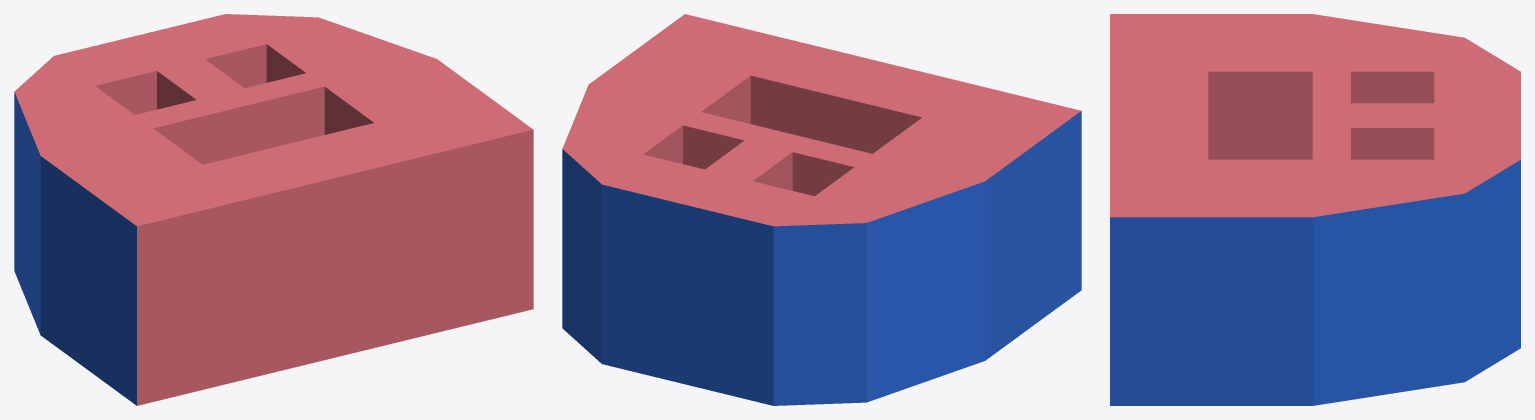
Rendered from badguy2p93.fbx.
3 views of the same model, side by side, from view 1: azimuth 30°, elevation 25°; view 2: azimuth 150°, elevation 25°; view 3: azimuth 270°, elevation 25° (orthographic). The views are drawn at different scales.
Parts seen in each view (by area): view 1: Cube; view 2: Cube; view 3: Cube.
Boxes of the visible parts, x1,y1,x2,y2 form: Cube: [14, 14, 533, 405]; Cube: [562, 14, 1081, 405]; Cube: [1110, 14, 1520, 405].
Bounding box in the file's own units: 462 × 200 × 395.
